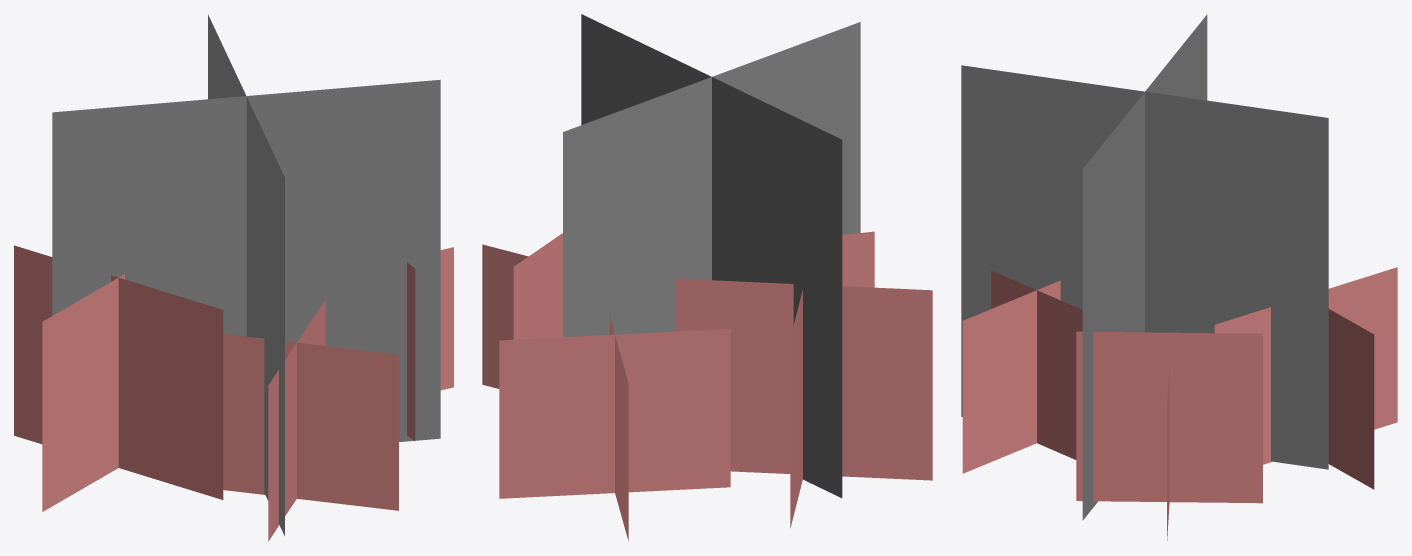
The model's file is SM_grass_flower_patch3.fbx.
The picture shows the model from 3 angles, left to right: view 1: azimuth 30°, elevation 25°; view 2: azimuth 150°, elevation 25°; view 3: azimuth 270°, elevation 25°; orthographic projection. The views are drawn at different scales.
Visible parts, largest first — view 1: SM_grass_flower_patch3; view 2: SM_grass_flower_patch3; view 3: SM_grass_flower_patch3.
Part boxes in pixels (x1,y1,x2,y2): SM_grass_flower_patch3: (14,14,453,541); SM_grass_flower_patch3: (482,14,932,540); SM_grass_flower_patch3: (961,14,1397,540).
Size of the model in its own units: 47 by 37.63 by 42.06.
